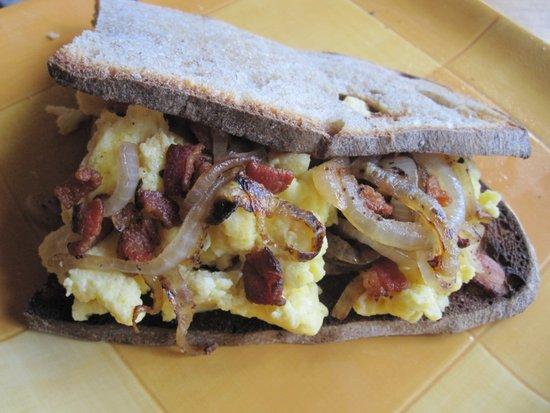slice of bread: (74, 15, 505, 152), (22, 305, 529, 356)
